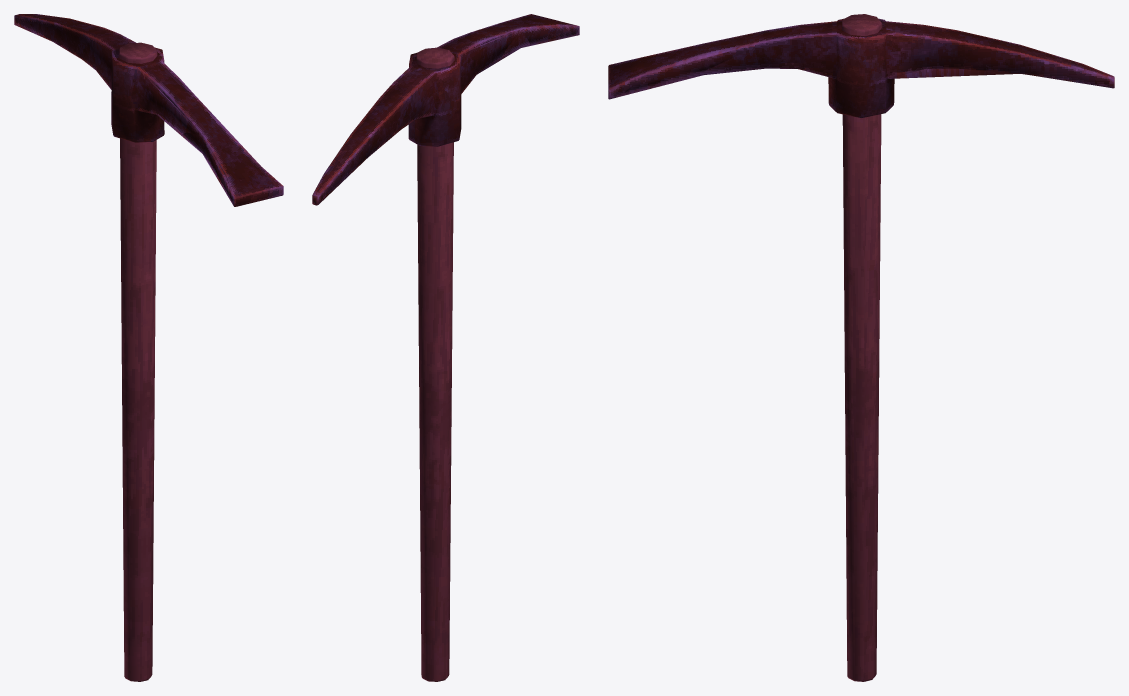
The model's file is item_pickaxe_realistic_galaxy.glb.
3 renders of one model, left to right at view 1: azimuth 30°, elevation 25°; view 2: azimuth 150°, elevation 25°; view 3: azimuth 270°, elevation 25°, orthographic. The views are drawn at different scales.
Visible parts, largest first — view 1: RealisticPickaxe; view 2: RealisticPickaxe; view 3: RealisticPickaxe.
Part boxes in pixels (x1,y1,x2,y2): RealisticPickaxe: [14, 14, 283, 681]; RealisticPickaxe: [312, 14, 579, 681]; RealisticPickaxe: [608, 14, 1114, 681].
Bounding box in the file's own units: 0.0699 × 0.8373 × 0.5872.
Materials: 1 (1 with a texture image).
